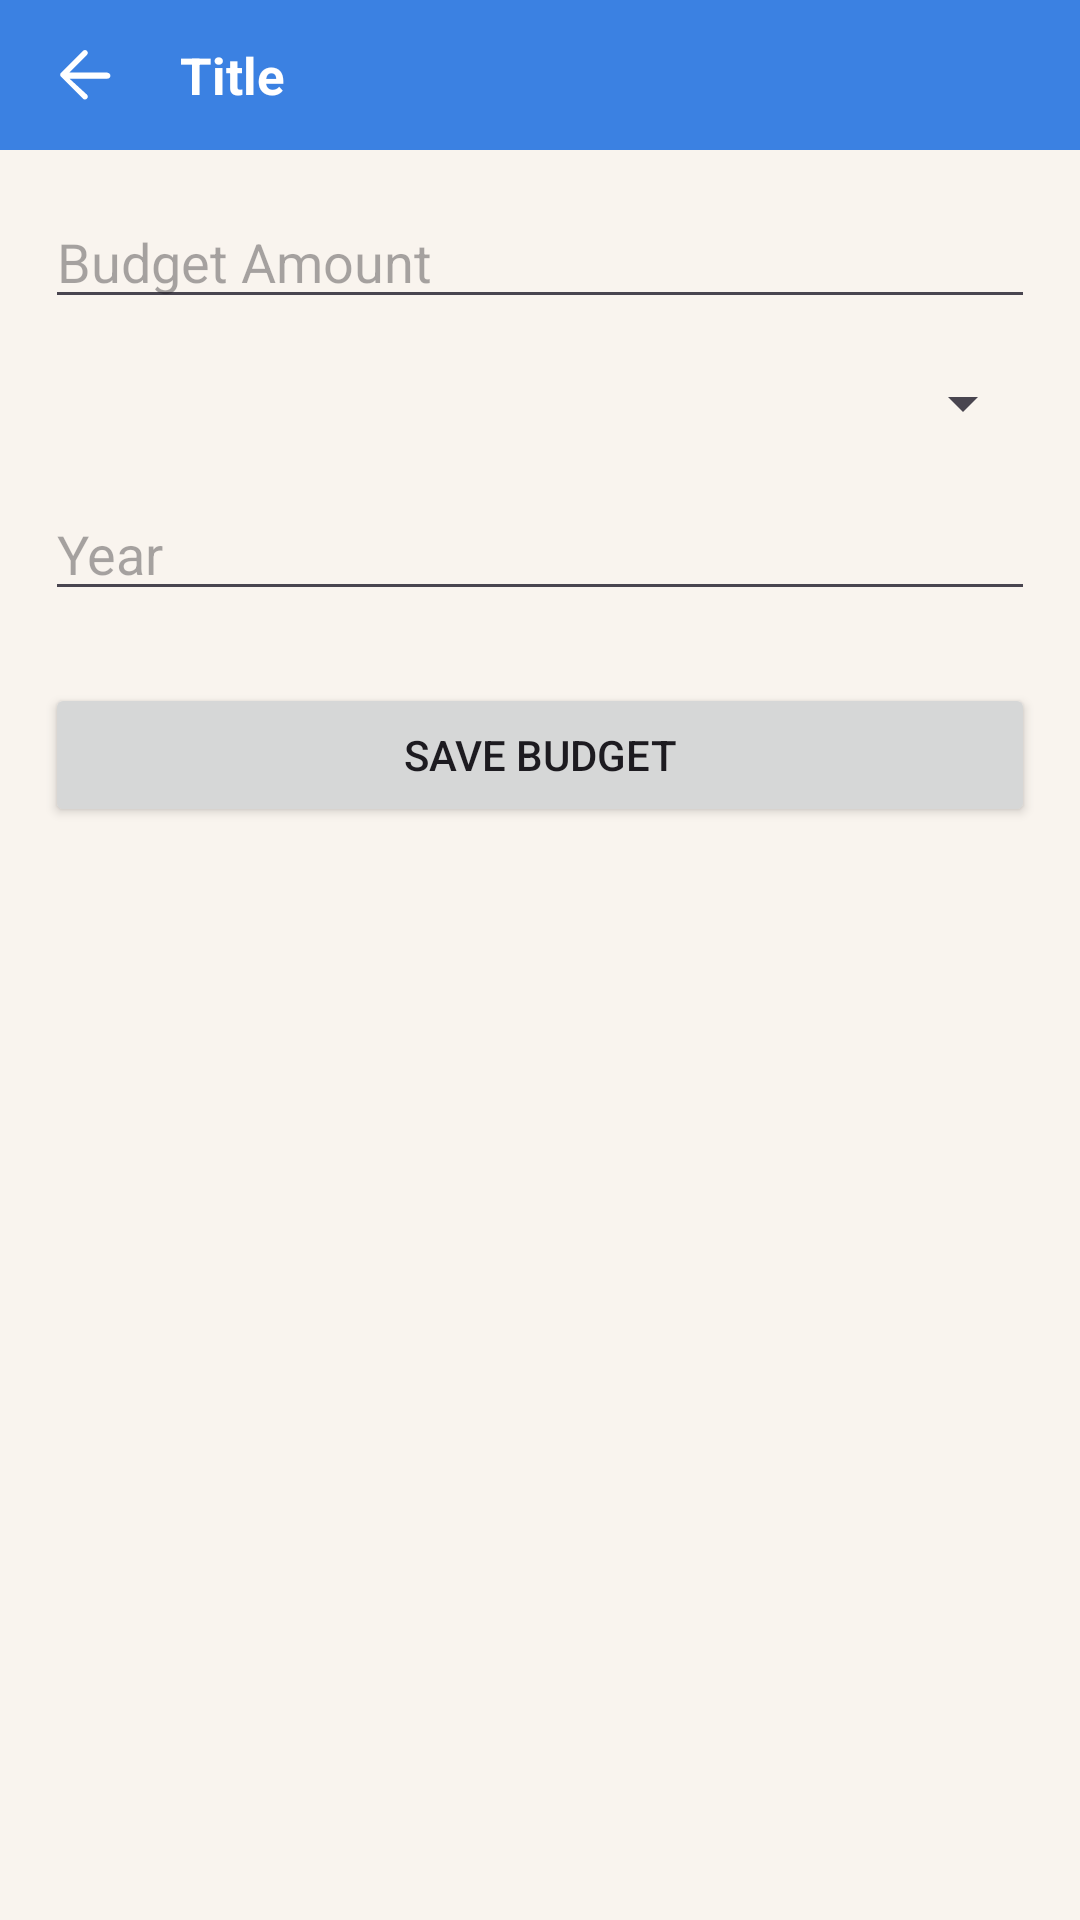

Where icons sit on this 1080 x 1920 app screen, as (x1, y1, x2, y2):
Back: (60, 50, 111, 100)
